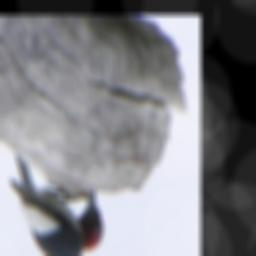Woodpecker: (6, 151, 107, 256)
